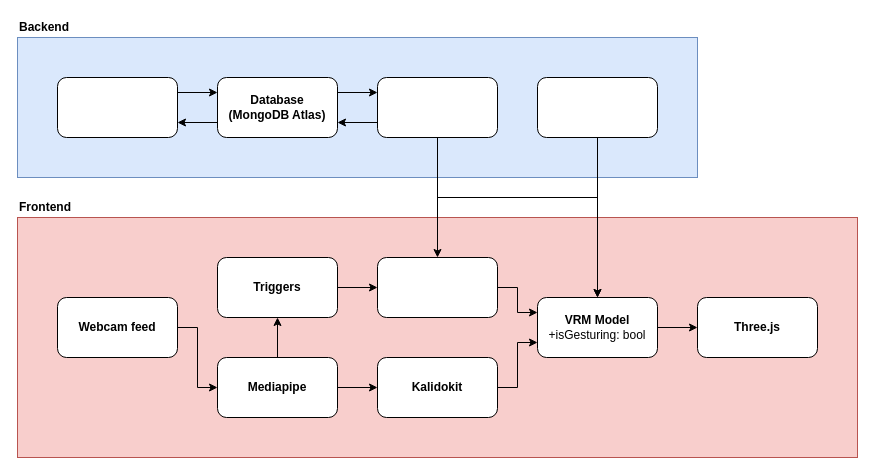
Some shapes in this 875 by 475 pixel diagram are drawn without their labels. The box of each missing label's shape, as (x1, y1, x2, y2) in pixels:
Gestures: (376, 256, 498, 318)
Rest API (User-Specific): (376, 76, 498, 138)
S3 Buckets: (56, 76, 178, 138)
Static File Serving (Defaults): (536, 76, 658, 138)
